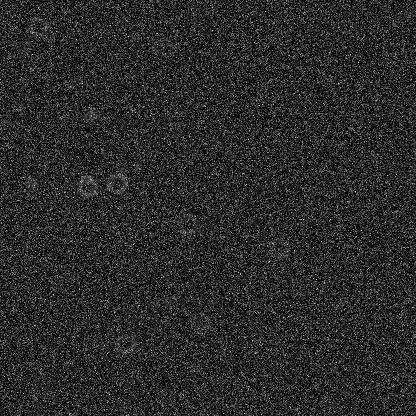Ring: (7, 359, 31, 383), (113, 331, 137, 355), (176, 212, 200, 236), (163, 292, 187, 316), (75, 174, 99, 198), (105, 171, 129, 195), (187, 309, 211, 333), (25, 14, 49, 38), (150, 36, 174, 60), (267, 236, 291, 260)
Spot: (83, 107, 99, 123), (24, 174, 40, 190), (206, 135, 222, 151), (169, 119, 185, 135)
